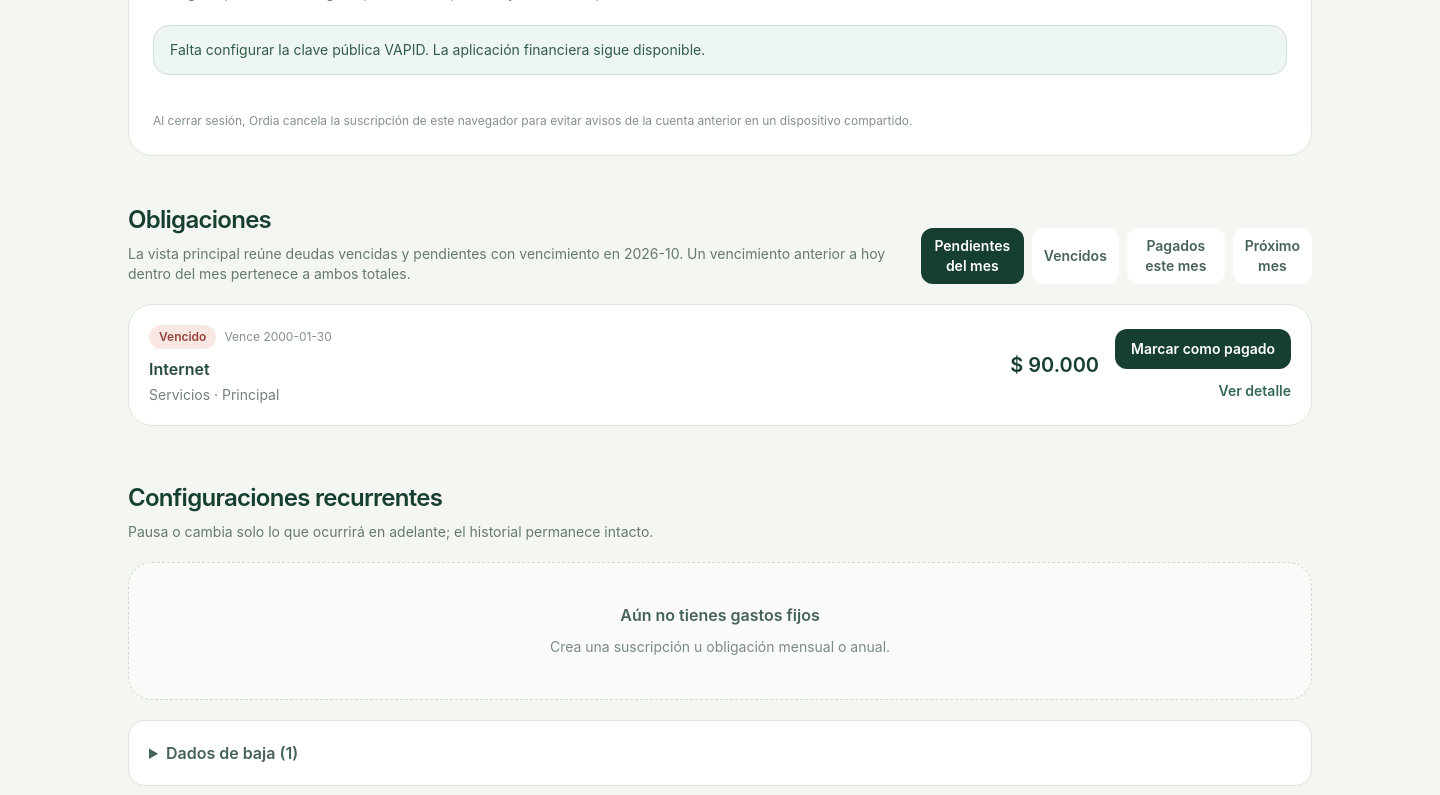
Test: gastos fijos › mantiene visible una deuda vencida de un gasto dado de baja
(page scrolled)
Expected: the text "Vence 2000-01-30" is shown, x1=224 y1=328 x2=332 y2=344
Expected: the button "Marcar como pagado" is shown, x1=1115 y1=328 x2=1291 y2=368
Click the button "Ver detalle". click: (1255, 390)
box: x1=1219 y1=380 x2=1291 y2=400
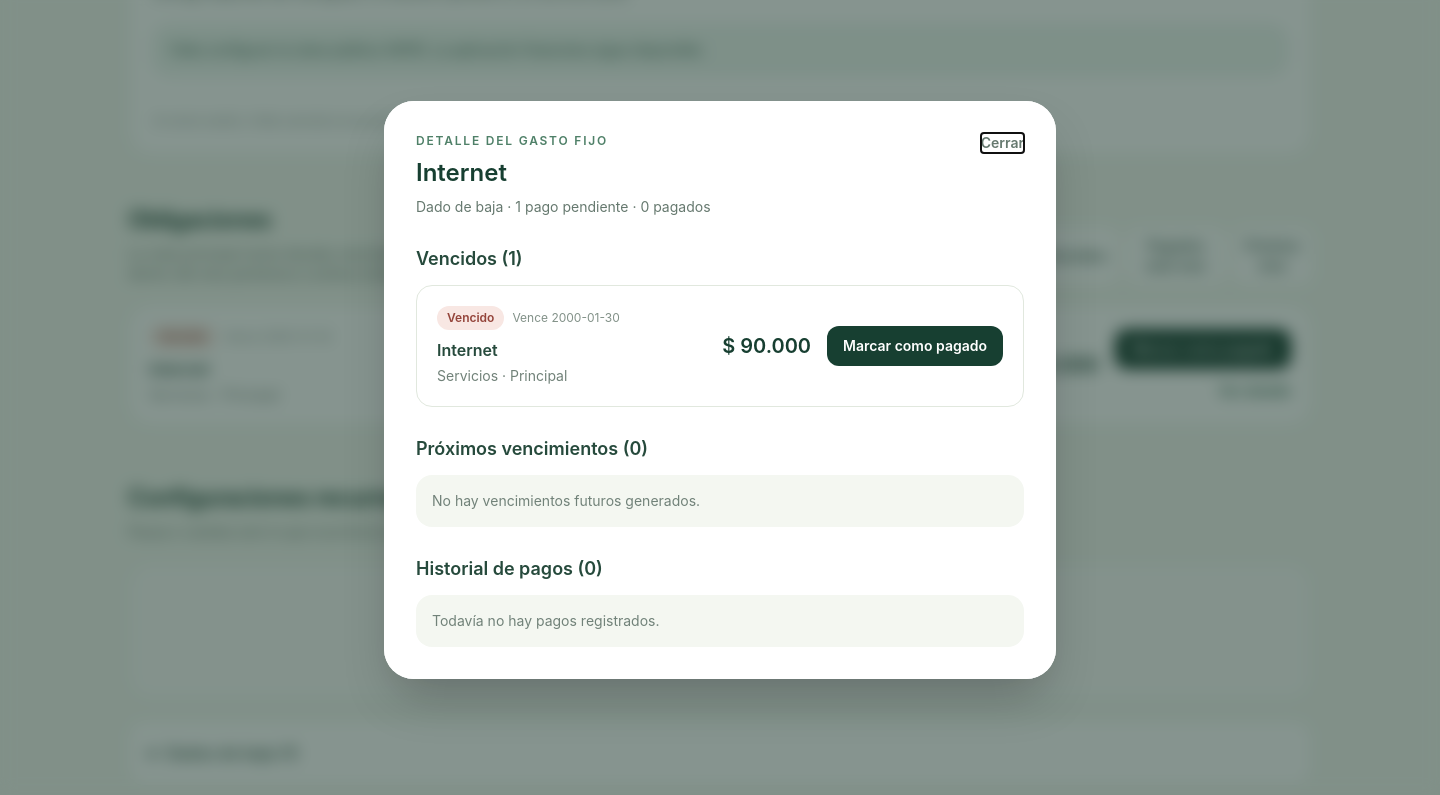
Expected: the text "Dado de baja · 1 pago pendiente · 0 pagados" is shown, x1=416 y1=197 x2=710 y2=217
